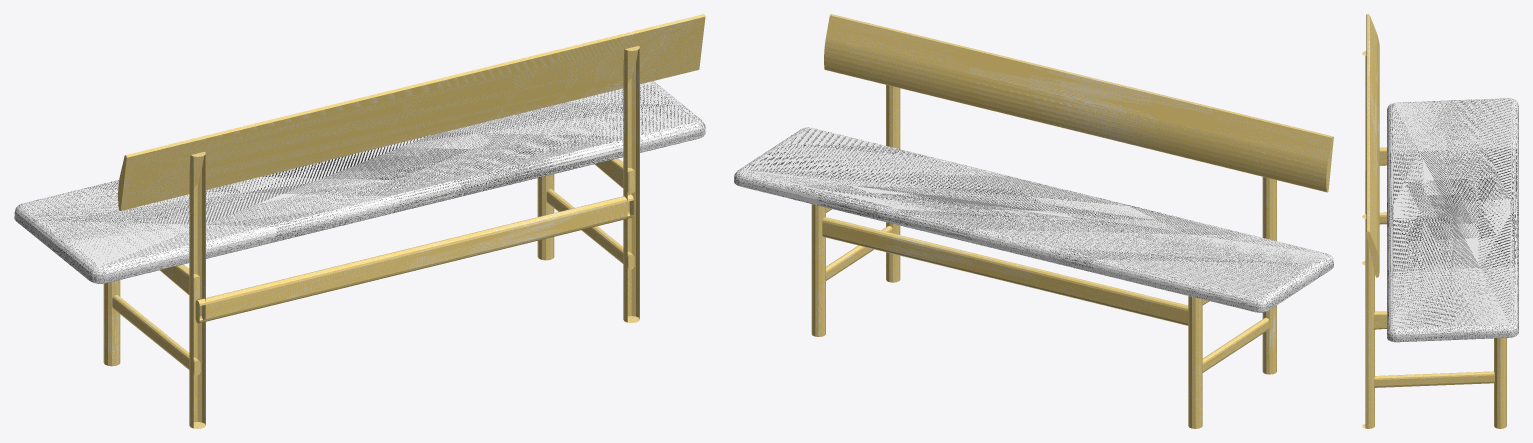
3 renders of one model, left to right at view 1: azimuth 30°, elevation 25°; view 2: azimuth 150°, elevation 25°; view 3: azimuth 270°, elevation 25°, orthographic. The views are drawn at different scales.
Visible parts, largest first — view 1: mesh1_mesh1-geometry, mesh10_mesh10-geometry, mesh7_mesh7-geometry, mesh8_mesh8-geometry, mesh4_mesh4-geometry, mesh9_mesh9-geometry, mesh3_mesh3-geometry, mesh11_mesh11-geometry; view 2: mesh10_mesh10-geometry, mesh1_mesh1-geometry, mesh2_mesh2-geometry, mesh8_mesh8-geometry, mesh9_mesh9-geometry, mesh7_mesh7-geometry, mesh4_mesh4-geometry; view 3: mesh10_mesh10-geometry, mesh1_mesh1-geometry, mesh4_mesh4-geometry, mesh9_mesh9-geometry, mesh3_mesh3-geometry.
Boxes of the visible parts, left/top/right/bottom form: mesh1_mesh1-geometry: left=118, top=14, right=705, bottom=428; mesh10_mesh10-geometry: left=14, top=81, right=705, bottom=283; mesh7_mesh7-geometry: left=112, top=295, right=200, bottom=375; mesh8_mesh8-geometry: left=103, top=280, right=120, bottom=366; mesh4_mesh4-geometry: left=546, top=189, right=634, bottom=269; mesh9_mesh9-geometry: left=537, top=174, right=554, bottom=260; mesh3_mesh3-geometry: left=594, top=158, right=634, bottom=193; mesh11_mesh11-geometry: left=160, top=264, right=199, bottom=299; mesh10_mesh10-geometry: left=734, top=127, right=1333, bottom=312; mesh1_mesh1-geometry: left=824, top=14, right=1333, bottom=374; mesh2_mesh2-geometry: left=822, top=217, right=1188, bottom=325; mesh8_mesh8-geometry: left=1188, top=296, right=1202, bottom=428; mesh9_mesh9-geometry: left=811, top=204, right=825, bottom=336; mesh7_mesh7-geometry: left=1202, top=317, right=1269, bottom=372; mesh4_mesh4-geometry: left=826, top=226, right=892, bottom=280; mesh10_mesh10-geometry: left=1387, top=98, right=1518, bottom=342; mesh1_mesh1-geometry: left=1362, top=14, right=1379, bottom=428; mesh4_mesh4-geometry: left=1374, top=371, right=1494, bottom=387; mesh9_mesh9-geometry: left=1494, top=338, right=1506, bottom=428; mesh3_mesh3-geometry: left=1373, top=311, right=1386, bottom=329.
Size of the model in its own units: 0.8831 by 0.3952 by 0.253.
